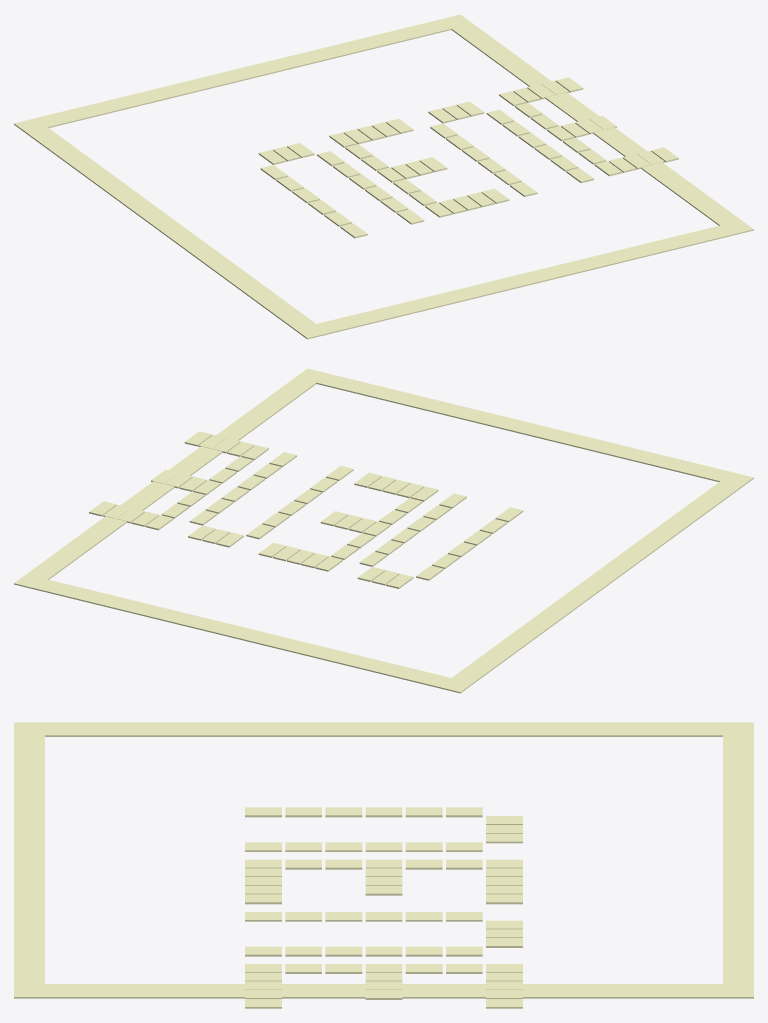
File: marking_queue_box_white.glb
3 views of the same model, one above another, from view 1: azimuth 30°, elevation 25°; view 2: azimuth 150°, elevation 25°; view 3: azimuth 270°, elevation 25° (orthographic). The views are drawn at different scales.
Visible parts, largest first — view 1: queue_box_bottom, queue_box_top, queue_box_left, queue_box_right; view 2: queue_box_top, queue_box_bottom, queue_box_left, queue_box_right; view 3: queue_box_left, queue_box_right, queue_box_top, queue_box_bottom.
Boxes of the visible parts, x1,y1,x2,y2 form: queue_box_bottom: (295,220,753,339); queue_box_top: (14,14,472,133); queue_box_left: (26,127,315,329); queue_box_right: (451,23,741,225); queue_box_top: (14,574,472,693); queue_box_bottom: (295,368,753,487); queue_box_left: (452,481,741,683); queue_box_right: (26,377,316,579); queue_box_left: (45,722,722,736); queue_box_right: (45,984,722,998); queue_box_top: (723,722,753,998); queue_box_bottom: (14,722,44,998).
Bounding box in the file's own units: 1.95 × 0.006 × 2.14.
